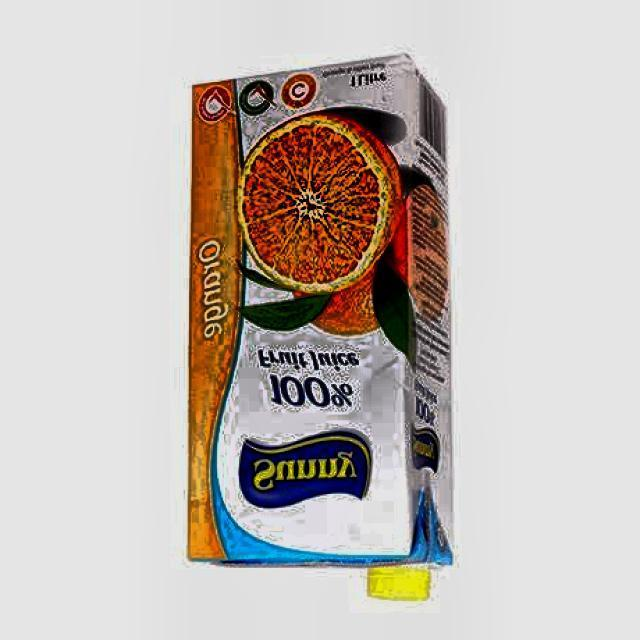cardboard: (185, 56, 454, 576)
